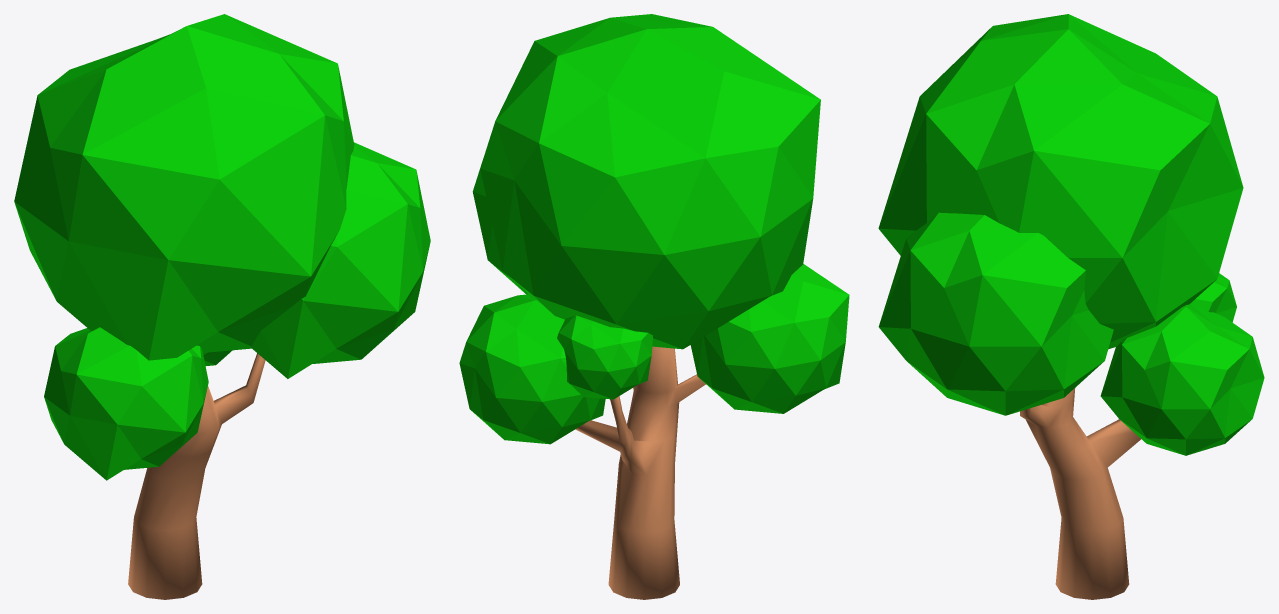
The model's file is Tree.fbx.
3 renders of one model, left to right at view 1: azimuth 30°, elevation 25°; view 2: azimuth 150°, elevation 25°; view 3: azimuth 270°, elevation 25°, orthographic. The views are drawn at different scales.
Visible parts, largest first — view 1: Tree; view 2: Tree; view 3: Tree.
Boxes of the visible parts, x1,y1,x2,y2 form: Tree: (14, 14, 430, 599); Tree: (459, 14, 849, 599); Tree: (878, 14, 1264, 599).
Size of the model in its own units: 5.11 by 7.76 by 4.85.
